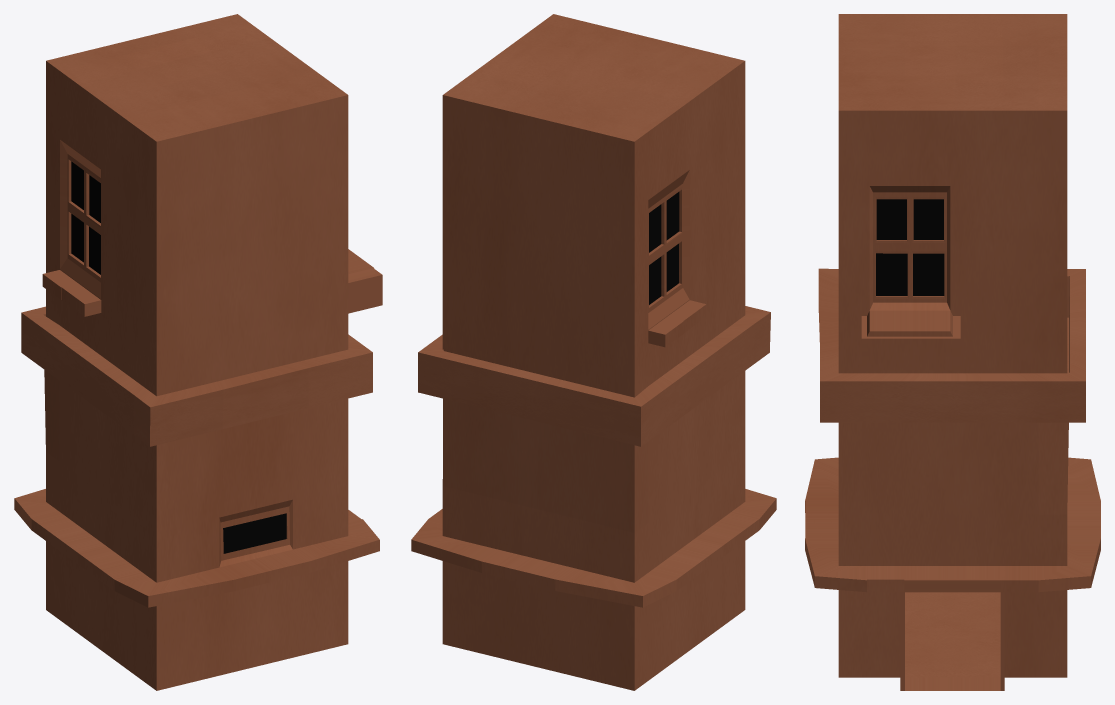
Rendered from tower3.fbx.
3 renders of one model, left to right at view 1: azimuth 30°, elevation 25°; view 2: azimuth 150°, elevation 25°; view 3: azimuth 270°, elevation 25°, orthographic. The views are drawn at different scales.
Visible parts, largest first — view 1: Cube; view 2: Cube; view 3: Cube.
Boxes of the visible parts, <box> form: Cube: <box>14,14,382,690</box>; Cube: <box>411,14,776,690</box>; Cube: <box>805,14,1100,690</box>.
Size of the model in its own units: 277 by 548 by 259.
3 materials, 1 textured.
